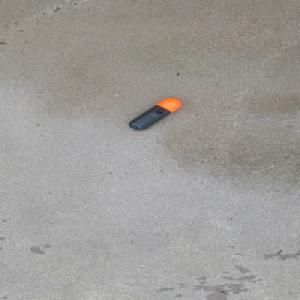PlasticPart: (128, 97, 183, 131)
